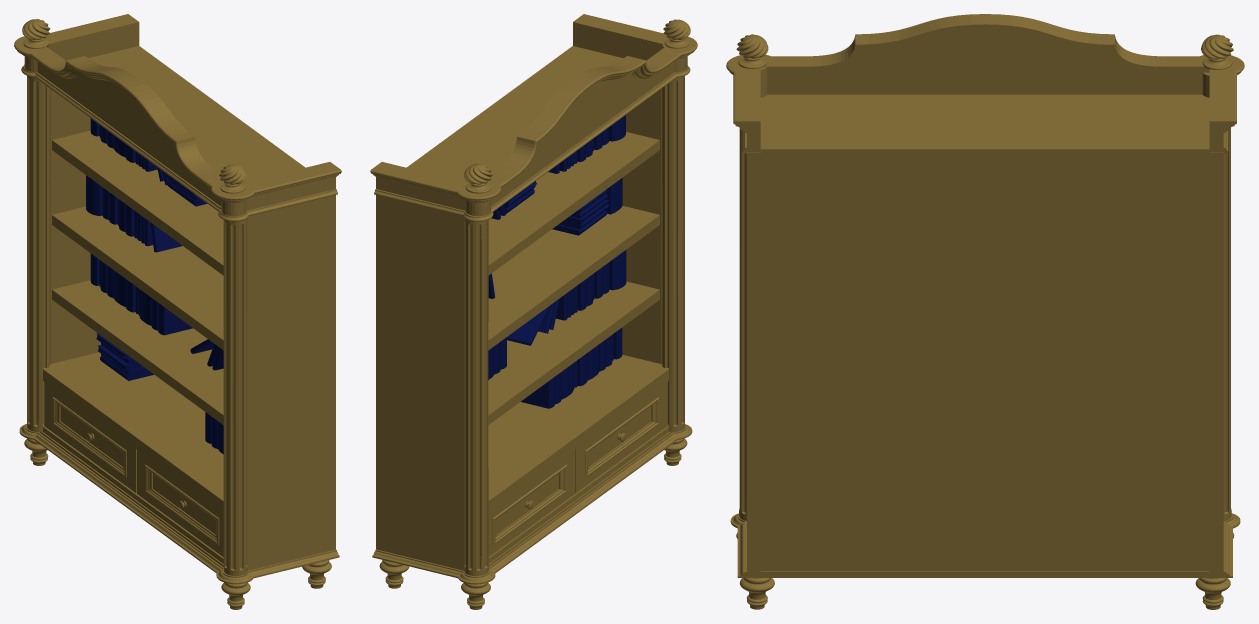
Rendered from bookcase-1.FBX.
The picture shows the model from 3 angles, left to right: view 1: azimuth 30°, elevation 25°; view 2: azimuth 150°, elevation 25°; view 3: azimuth 270°, elevation 25°; orthographic projection. The views are drawn at different scales.
Parts seen in each view (by area): view 1: bookcase, book084, book34, book24; view 2: bookcase, book37, book044, book095, book023; view 3: bookcase.
Part boxes in pixels (x1=…): bookcase: x1=14, y1=14, x2=341, y2=609; book084: x1=158, y1=303, x2=192, y2=335; book34: x1=86, y1=175, x2=102, y2=215; book24: x1=150, y1=222, x2=182, y2=252; bookcase: x1=370, y1=14, x2=697, y2=609; book37: x1=507, y1=305, x2=550, y2=345; book044: x1=609, y1=250, x2=626, y2=290; book095: x1=521, y1=377, x2=554, y2=408; book023: x1=606, y1=178, x2=622, y2=214; bookcase: x1=726, y1=14, x2=1244, y2=609.
Size of the model in its own units: 6.29 by 23.06 by 20.2.
